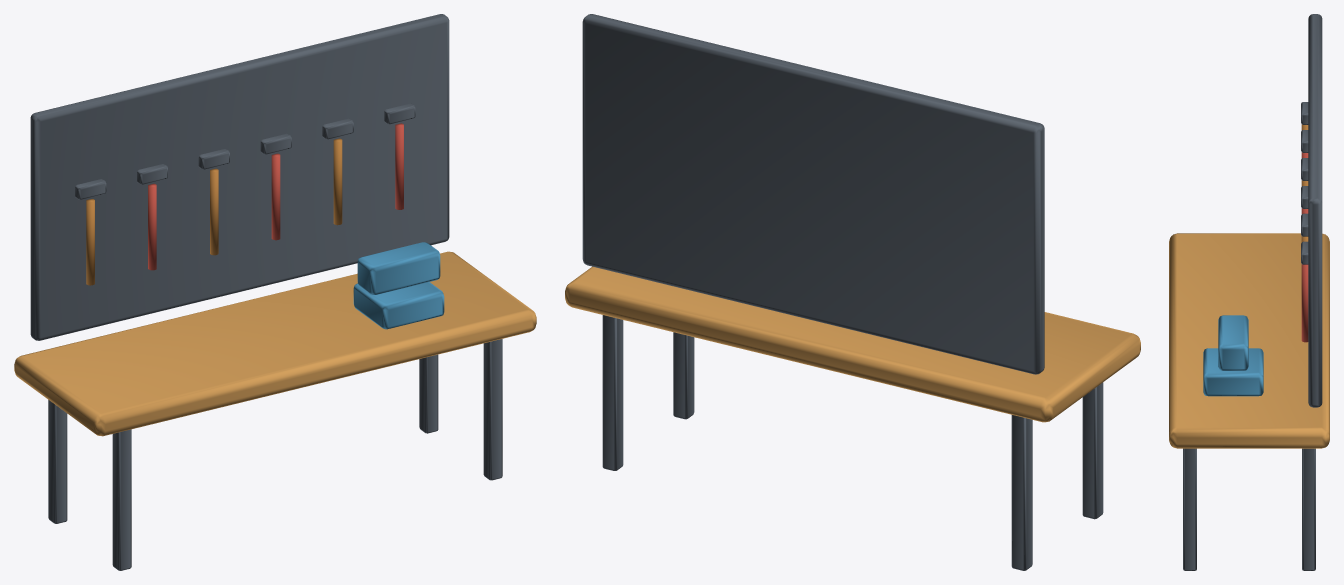
File: workshop-workbench.glb
The picture shows the model from 3 angles, left to right: view 1: azimuth 30°, elevation 25°; view 2: azimuth 150°, elevation 25°; view 3: azimuth 270°, elevation 25°; orthographic projection. The views are drawn at different scales.
Visible parts, largest first — view 1: interior_2_metal, interior_2_woodLight, interior_2_blue, interior_2_red, interior_2_wood; view 2: interior_2_metal, interior_2_woodLight; view 3: interior_2_woodLight, interior_2_metal, interior_2_blue, interior_2_red.
Part boxes in pixels (left/top/right/bottom): interior_2_metal: left=30, top=14, right=502, bottom=570; interior_2_woodLight: left=14, top=251, right=536, bottom=436; interior_2_blue: left=353, top=242, right=444, bottom=329; interior_2_red: left=148, top=123, right=403, bottom=270; interior_2_wood: left=86, top=138, right=342, bottom=285; interior_2_metal: left=582, top=14, right=1103, bottom=570; interior_2_woodLight: left=565, top=266, right=1140, bottom=422; interior_2_woodLight: left=1169, top=233, right=1329, bottom=448; interior_2_metal: left=1183, top=14, right=1322, bottom=570; interior_2_blue: left=1203, top=315, right=1263, bottom=396; interior_2_red: left=1301, top=152, right=1308, bottom=342.
Bounding box in the file's own units: 2.5 × 2.21 × 0.85.
